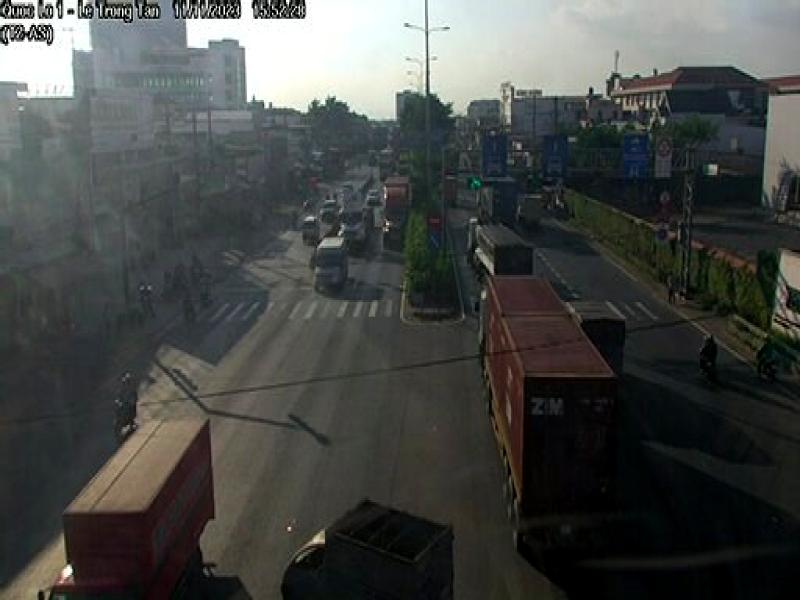truck: (477, 268, 618, 561), (39, 411, 217, 600), (280, 500, 465, 600)
